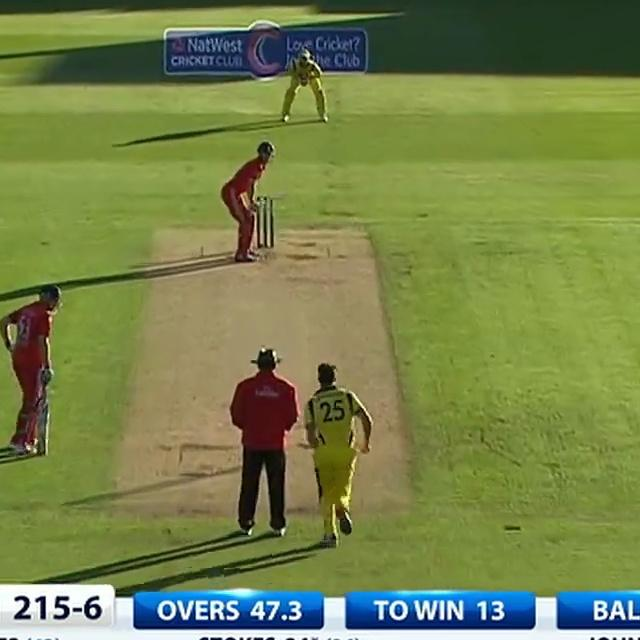umpire: (220, 338, 307, 540)
